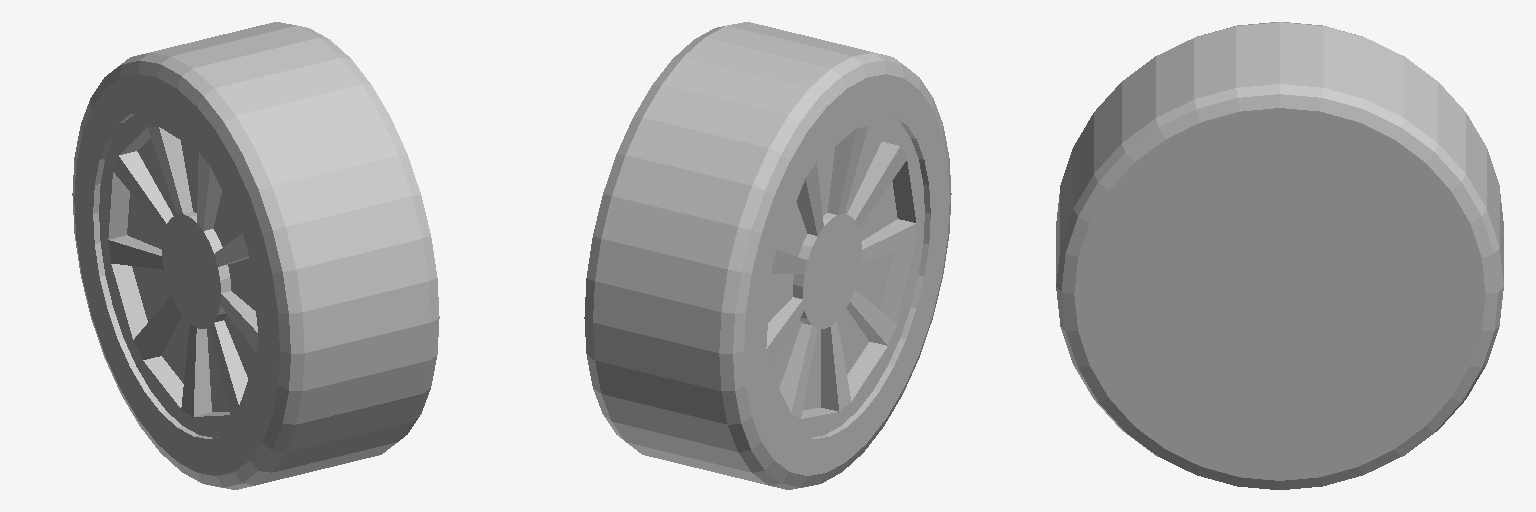
The model's file is rear_left_tire.obj.
3 views of the same model, side by side, from view 1: azimuth 30°, elevation 25°; view 2: azimuth 150°, elevation 25°; view 3: azimuth 270°, elevation 25° (orthographic).
Parts seen in each view (by area): view 1: Rear_left_tire; view 2: Rear_left_tire; view 3: Rear_left_tire.
Boxes of the visible parts, <box> form: Rear_left_tire: <box>72,22,439,489</box>; Rear_left_tire: <box>584,22,951,489</box>; Rear_left_tire: <box>1056,22,1503,489</box>.
Size of the model in its own units: 0.269 by 0.6616 by 0.6616.